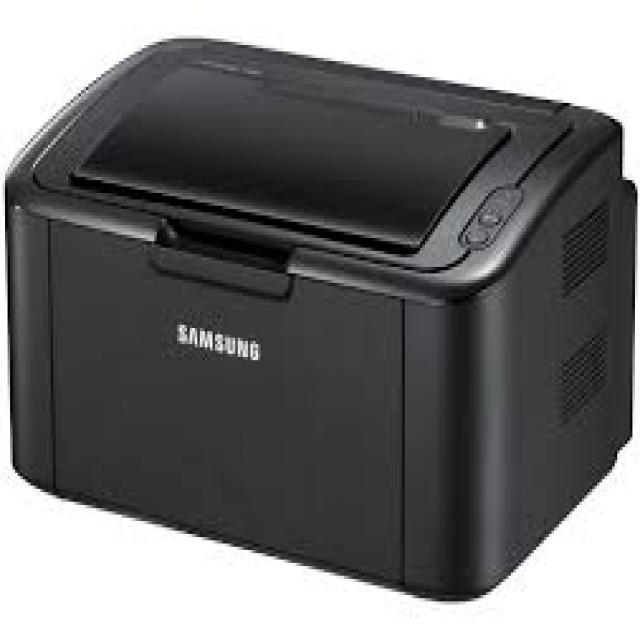printer: (1, 32, 636, 606)
